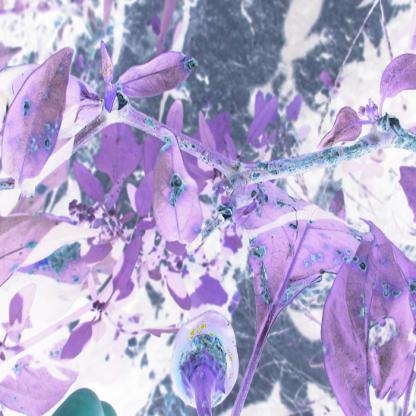bell pepper leaf spot: (319, 216, 415, 414), (1, 45, 78, 194), (149, 127, 204, 250), (114, 44, 206, 106)
